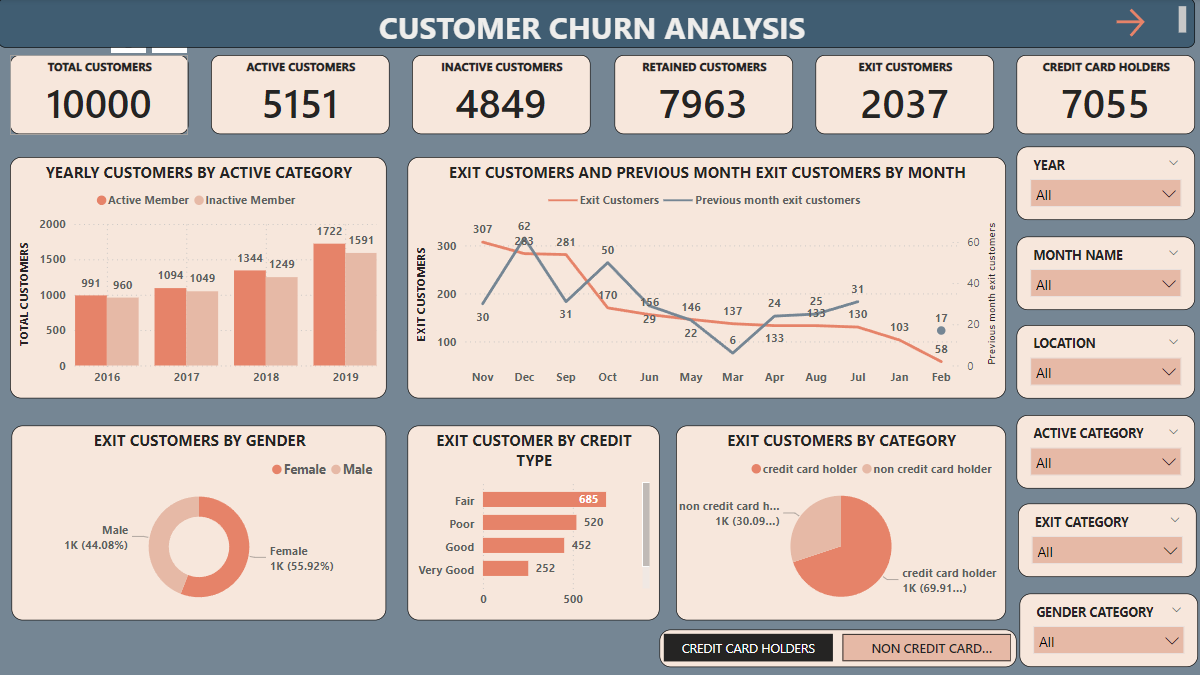

Layout of this report page (visuals, bound fields, positions):
{"tool":"powerbi","page":{"name":"Home page","canvas":[1280,720],"ordinal":0},"visuals":[{"type":"card","title":"TOTAL CUSTOMERS","fields":{"Values":["Calculations.Total Customers"]},"box":[12.7,60.4,189.3,84.3],"z":0},{"type":"card","title":"INACTIVE CUSTOMERS","fields":{"Values":["Calculations.Inactive Customers"]},"box":[439.6,60.4,189.3,84.3],"z":1},{"type":"card","title":"ACTIVE CUSTOMERS","fields":{"Values":["Calculations.Active customers"]},"box":[226.2,60.4,189.3,84.3],"z":2},{"type":"textbox","box":[0,0,1269.3,52.5],"z":3},{"type":"card","title":"CREDIT CARD HOLDERS","fields":{"Values":["Calculations.Credit Card Holders"]},"box":[1080,60.4,189.3,84.3],"z":4},{"type":"card","title":"EXIT CUSTOMERS","fields":{"Values":["Calculations.Exit Customers"]},"box":[866.6,60.4,189.3,84.3],"z":5},{"type":"card","title":"RETAINED CUSTOMERS","fields":{"Values":["Calculations.Retained Customers"]},"box":[653.1,60.4,189.3,84.3],"z":6},{"type":"slicer","fields":{"Values":["Datemaster.Year"]},"box":[1080,157.5,189.3,77.9],"z":7},{"type":"slicer","fields":{"Values":["Datemaster.Month Name"]},"box":[1080,252.3,189.3,77.9],"z":8},{"type":"slicer","fields":{"Values":["Geography.GeographyLocation"]},"box":[1080,347.1,189.3,77.9],"z":9},{"type":"slicer","fields":{"Values":["ActiveCustomer.ActiveCategory"]},"box":[1080,441.9,189.3,77.9],"z":10},{"type":"slicer","fields":{"Values":["Exit customer.ExitCategory"]},"box":[1081.6,536.7,189.3,77.9],"z":11},{"type":"slicer","fields":{"Values":["Gender.GenderCategory"]},"box":[1083.2,631.5,189.3,77.9],"z":12},{"type":"clusteredColumnChart","title":"YEARLY CUSTOMERS BY ACTIVE CATEGORY","fields":{"Category":["Datemaster.Year","Datemaster.Month Name"],"Y":["Calculations.Total Customers"],"Series":["ActiveCustomer.ActiveCategory"]},"box":[12.7,168.6,399.2,256.1],"z":13},{"type":"lineChart","title":"EXIT CUSTOMERS AND PREVIOUS MONTH EXIT CUSTOMERS BY MONTH","fields":{"Category":["Datemaster.Month Name"],"Y":["Calculations.Exit Customers"],"Y2":["Calculations.Previous month exit customers"]},"box":[434.2,168.6,634.7,256.1],"z":14},{"type":"donutChart","title":"EXIT CUSTOMERS BY GENDER","fields":{"Category":["Gender.GenderCategory"],"Y":["Calculations.Exit Customers"]},"box":[13.8,454.1,397.7,206.8],"z":15},{"type":"clusteredBarChart","title":"EXIT CUSTOMER BY CREDIT TYPE","fields":{"Category":["Bank_Churn.Credit type"],"Y":["Calculations.Exit Customers"]},"box":[434.2,453.3,267.2,206.8],"z":16},{"type":"pieChart","title":"EXIT CUSTOMERS BY CATEGORY","fields":{"Category":["Credit card.Category"],"Y":["Calculations.Exit Customers"]},"box":[719,453.3,349.9,206.8],"z":17},{"type":"bookmarkNavigator","box":[701.5,669.6,378.6,39.8],"z":19},{"type":"actionButton","box":[1180.2,6.4,100.2,39.8],"z":20}]}

Visuals, with their boxes in screenshot pixels (x1, y1, x2, y2), scaled from the page's 1280x720 canvas onto the 1200x675 screenshot:
"TOTAL CUSTOMERS" card: 12:57:189:136
"INACTIVE CUSTOMERS" card: 412:57:590:136
"ACTIVE CUSTOMERS" card: 212:57:390:136
textbox: 0:0:1190:49
"CREDIT CARD HOLDERS" card: 1012:57:1190:136
"EXIT CUSTOMERS" card: 812:57:990:136
"RETAINED CUSTOMERS" card: 612:57:790:136
slicer - Datemaster.Year: 1012:148:1190:221
slicer - Datemaster.Month Name: 1012:237:1190:310
slicer - Geography.GeographyLocation: 1012:325:1190:398
slicer - ActiveCustomer.ActiveCategory: 1012:414:1190:487
slicer - Exit customer.ExitCategory: 1014:503:1191:576
slicer - Gender.GenderCategory: 1016:592:1193:665
"YEARLY CUSTOMERS BY ACTIVE CATEGORY" clusteredColumnChart: 12:158:386:398
"EXIT CUSTOMERS AND PREVIOUS MONTH EXIT CUSTOMERS BY MONTH" lineChart: 407:158:1002:398
"EXIT CUSTOMERS BY GENDER" donutChart: 13:426:386:620
"EXIT CUSTOMER BY CREDIT TYPE" clusteredBarChart: 407:425:658:619
"EXIT CUSTOMERS BY CATEGORY" pieChart: 674:425:1002:619
bookmarkNavigator: 658:628:1013:665
actionButton: 1106:6:1199:43
